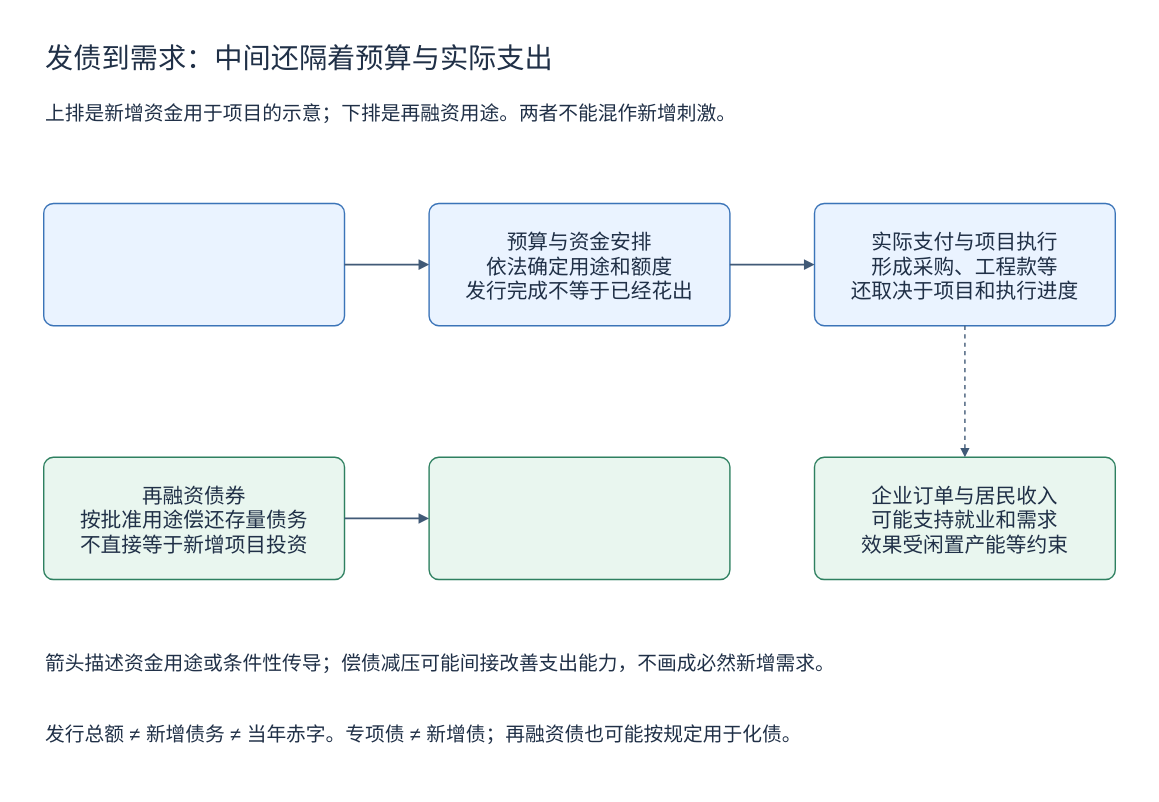
Some shapes in this 1159 by 802 pixel diagram are drawn without their labels. The shapes that lost their labels are listed below. From the top down, each one's centre as x and y in pixels, then its label:
At [194,264]: "债券发行与缴款 投资者取得政府债权 政府形成偿还本息的义务".
At [579,518]: "偿还旧债／债务置换 可能调整期限和利息负担 要看具体工具与债务范围".
